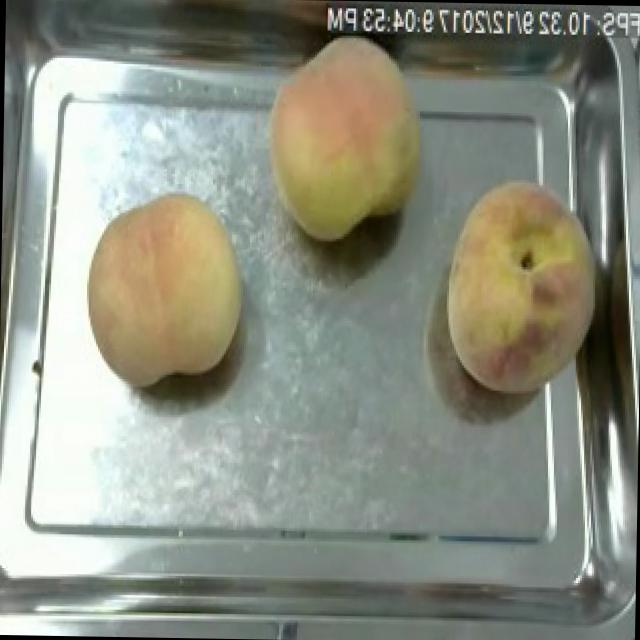Fruit: (434, 168, 614, 407), (251, 16, 433, 252), (74, 187, 254, 396)
